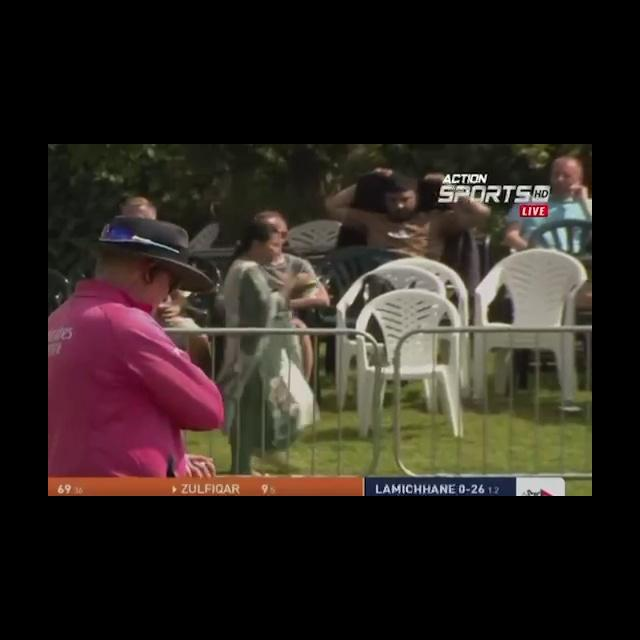umpire: (53, 172, 287, 496)
